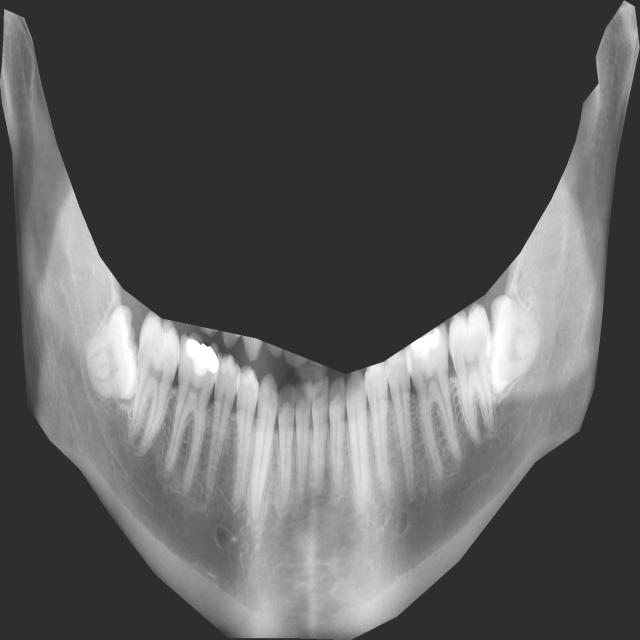mandibula: (0, 0, 640, 640)
